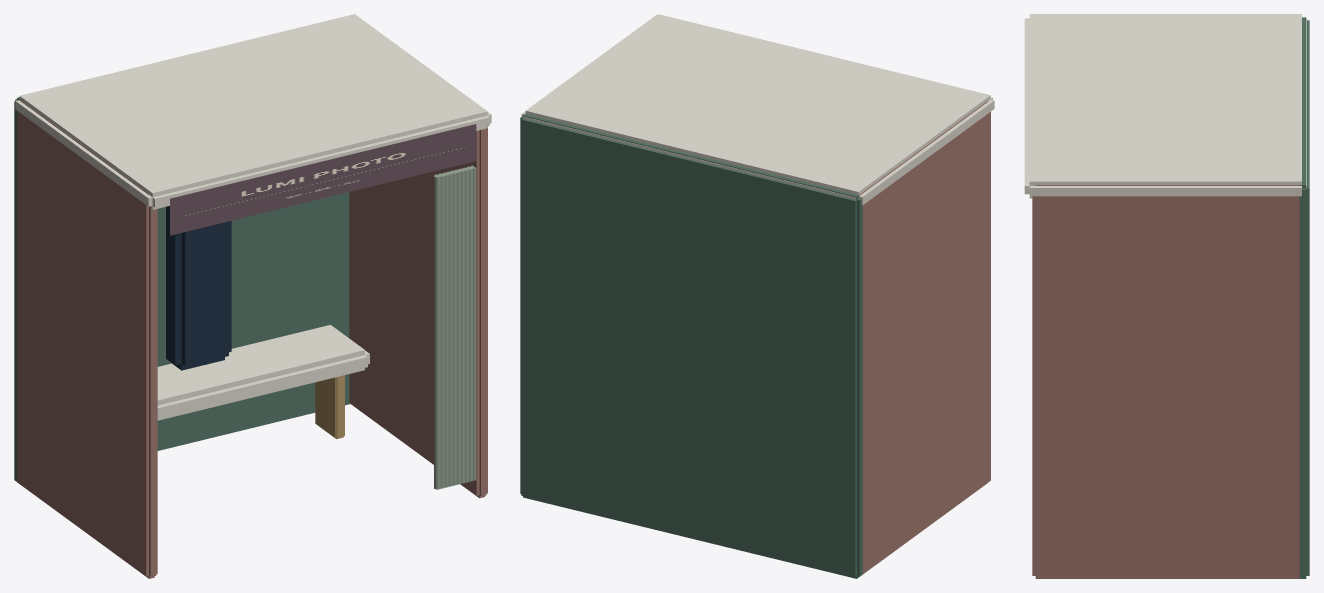
The model's file is fixture_v25_photo_booth.glb.
The picture shows the model from 3 angles, left to right: view 1: azimuth 30°, elevation 25°; view 2: azimuth 150°, elevation 25°; view 3: azimuth 270°, elevation 25°; orthographic projection. The views are drawn at different scales.
Parts seen in each view (by area): view 1: fixture_v25_photo_booth_V25_soft_rose, fixture_v25_photo_booth_V25_satin_ivory, fixture_v25_photo_booth_V25_cafe_sage, fixture_v25_photo_booth_V25_woven_twill, fixture_v25_photo_booth_lumi-photo, fixture_v25_photo_booth_V25_arcade_navy, fixture_v25_photo_booth_Satin_champagne; view 2: fixture_v25_photo_booth_V25_cafe_sage, fixture_v25_photo_booth_V25_soft_rose, fixture_v25_photo_booth_V25_satin_ivory; view 3: fixture_v25_photo_booth_V25_soft_rose, fixture_v25_photo_booth_V25_satin_ivory, fixture_v25_photo_booth_V25_cafe_sage.
Boxes of the visible parts, x1=… form: fixture_v25_photo_booth_V25_soft_rose: x1=17, y1=100, x2=487, y2=578; fixture_v25_photo_booth_V25_satin_ivory: x1=15, y1=14, x2=491, y2=420; fixture_v25_photo_booth_V25_cafe_sage: x1=14, y1=97, x2=350, y2=482; fixture_v25_photo_booth_V25_woven_twill: x1=434, y1=165, x2=476, y2=489; fixture_v25_photo_booth_lumi-photo: x1=170, y1=124, x2=476, y2=235; fixture_v25_photo_booth_V25_arcade_navy: x1=166, y1=206, x2=231, y2=370; fixture_v25_photo_booth_Satin_champagne: x1=315, y1=375, x2=344, y2=438; fixture_v25_photo_booth_V25_cafe_sage: x1=520, y1=114, x2=862, y2=578; fixture_v25_photo_booth_V25_soft_rose: x1=860, y1=101, x2=990, y2=576; fixture_v25_photo_booth_V25_satin_ivory: x1=521, y1=14, x2=994, y2=205; fixture_v25_photo_booth_V25_soft_rose: x1=1032, y1=185, x2=1299, y2=578; fixture_v25_photo_booth_V25_satin_ivory: x1=1024, y1=14, x2=1306, y2=198; fixture_v25_photo_booth_V25_cafe_sage: x1=1299, y1=17, x2=1309, y2=578.
Size of the model in its own units: 2.13 by 2.3 by 1.5.
Materials: 9 (1 with a texture image).
